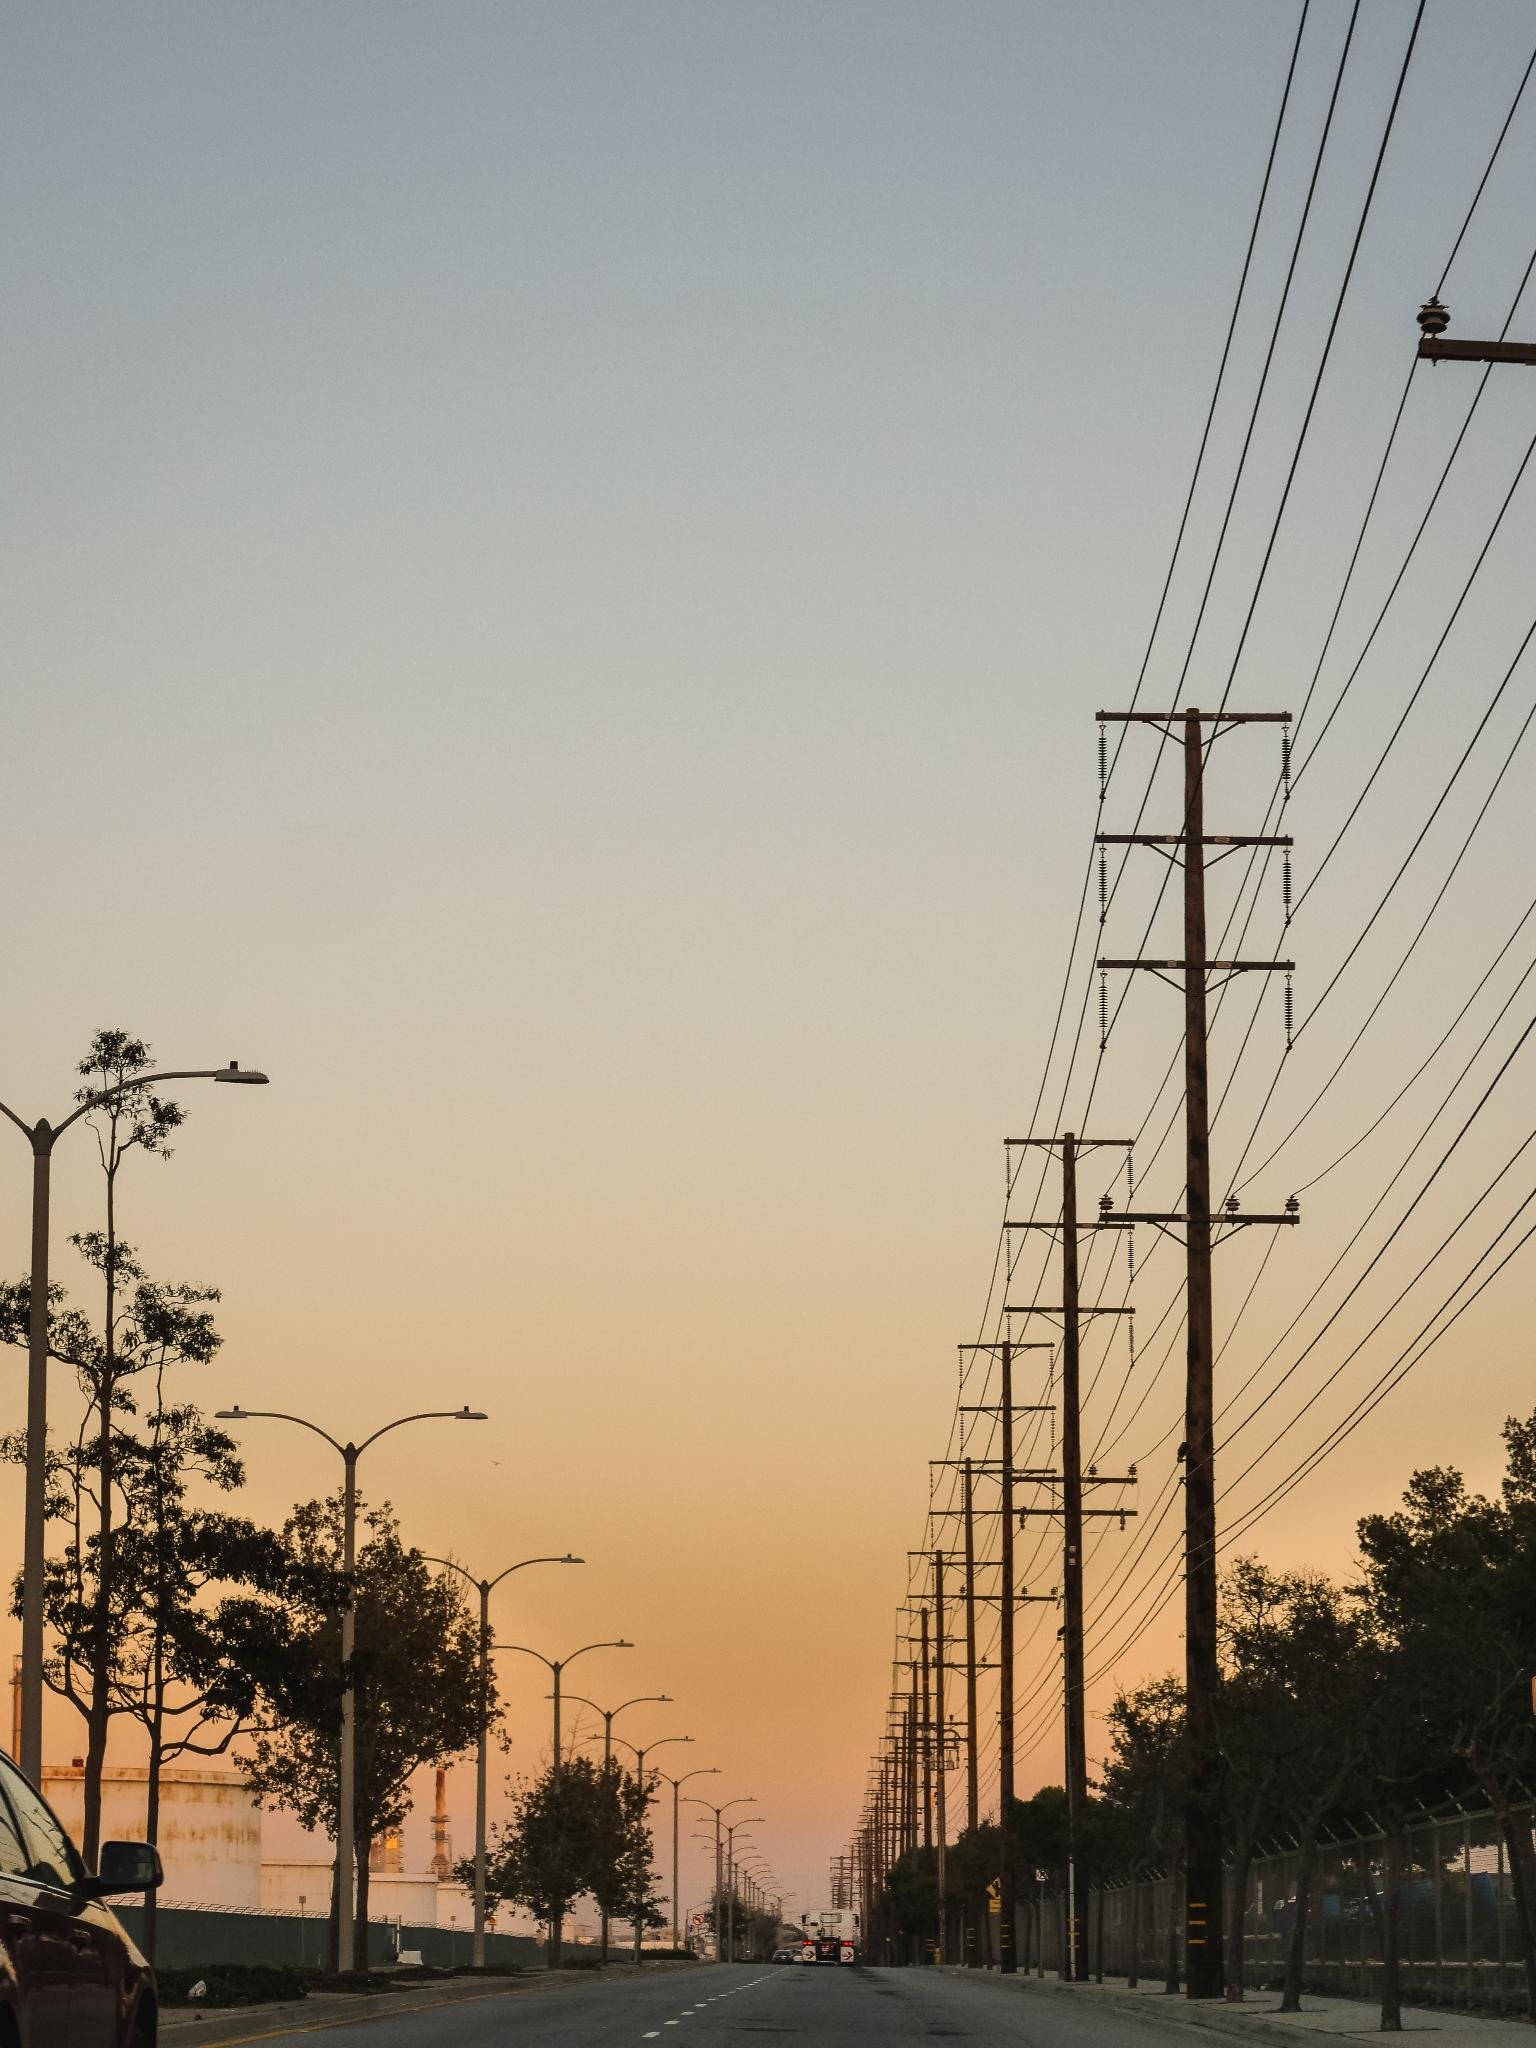cable tower: (1047, 647, 1344, 2048), (986, 1085, 1155, 2029), (931, 1292, 1070, 2027), (904, 1482, 999, 2009), (874, 1569, 968, 1971)
